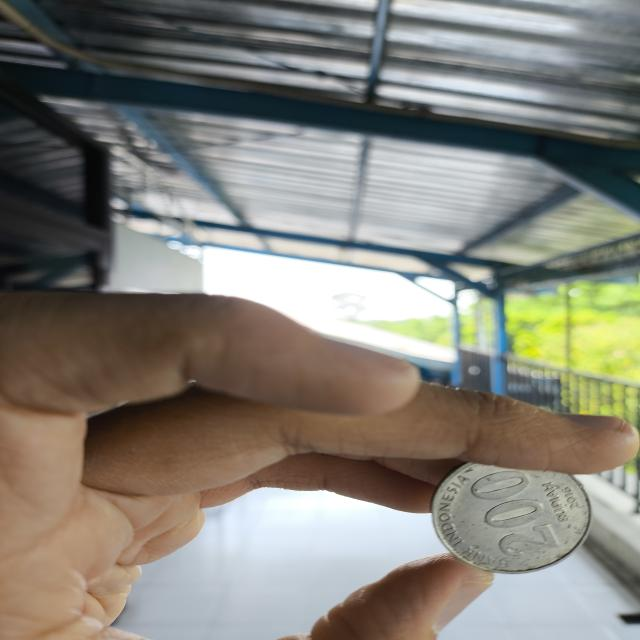1000-sawit: (431, 462, 591, 572)
